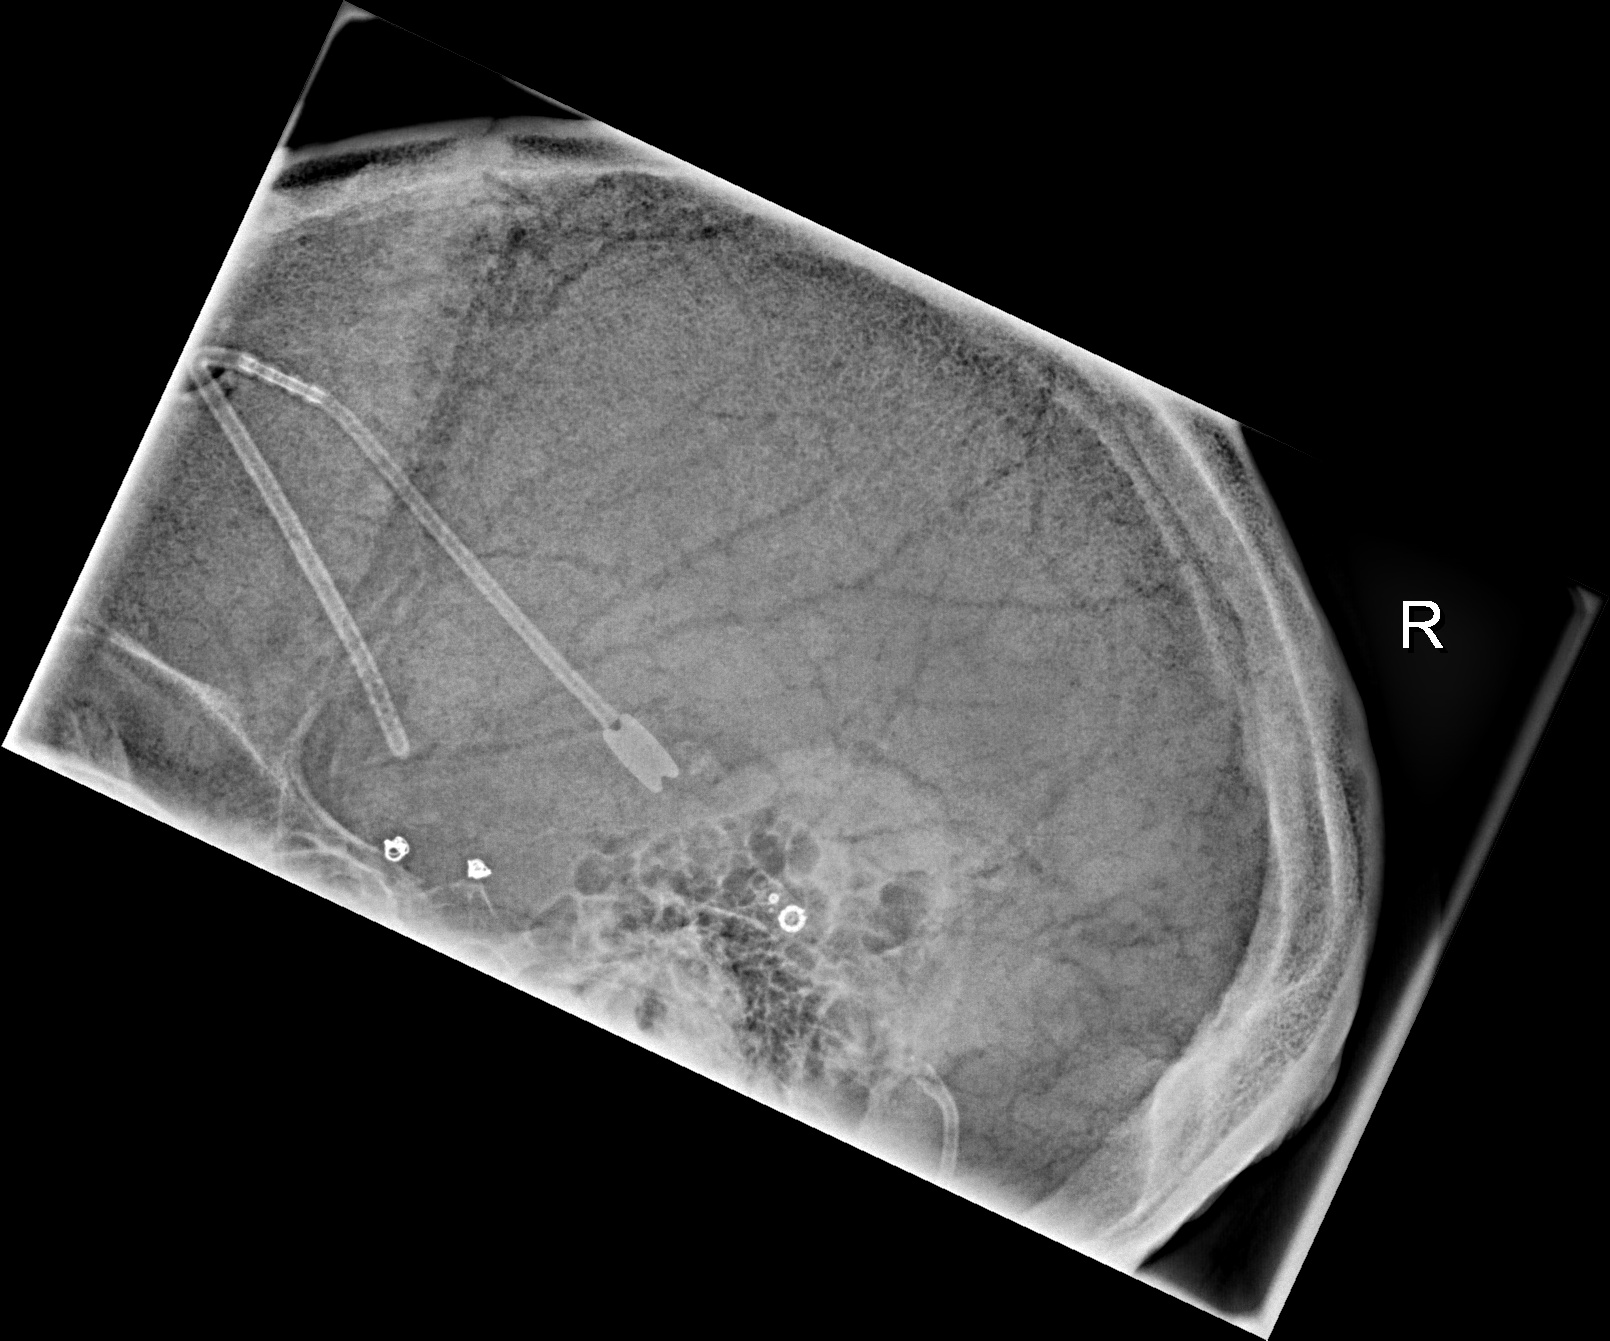Codman Hakim: (750, 876, 818, 945)
